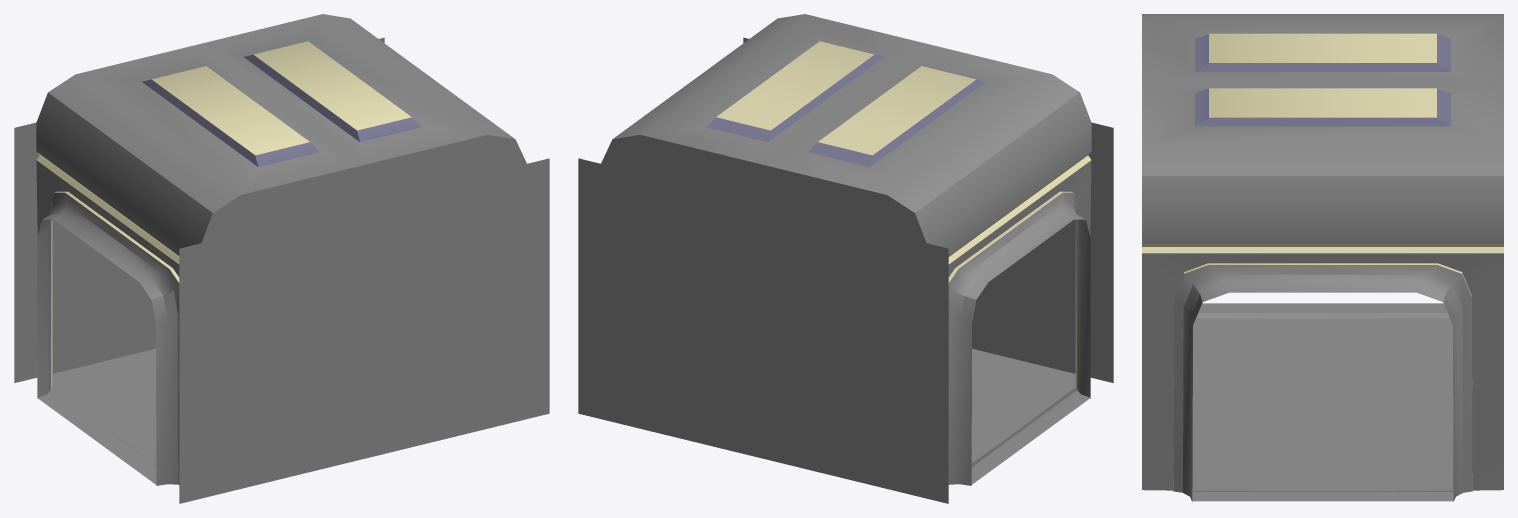
The model's file is disinfection room.fbx.
3 renders of one model, left to right at view 1: azimuth 30°, elevation 25°; view 2: azimuth 150°, elevation 25°; view 3: azimuth 270°, elevation 25°, orthographic. The views are drawn at different scales.
Parts seen in each view (by area): view 1: DisRoom, Wall, Wall2; view 2: DisRoom, Wall2, Wall; view 3: DisRoom.
Part boxes in pixels (x1=…): DisRoom: x1=14, y1=14, x2=549, y2=503; Wall: x1=201, y1=135, x2=526, y2=497; Wall2: x1=52, y1=219, x2=155, y2=373; DisRoom: x1=578, y1=14, x2=1113, y2=503; Wall2: x1=601, y1=135, x2=926, y2=497; Wall: x1=972, y1=152, x2=1091, y2=373; DisRoom: x1=1142, y1=14, x2=1503, y2=501.
Bounding box in the file's own units: 396 × 306 × 305.
